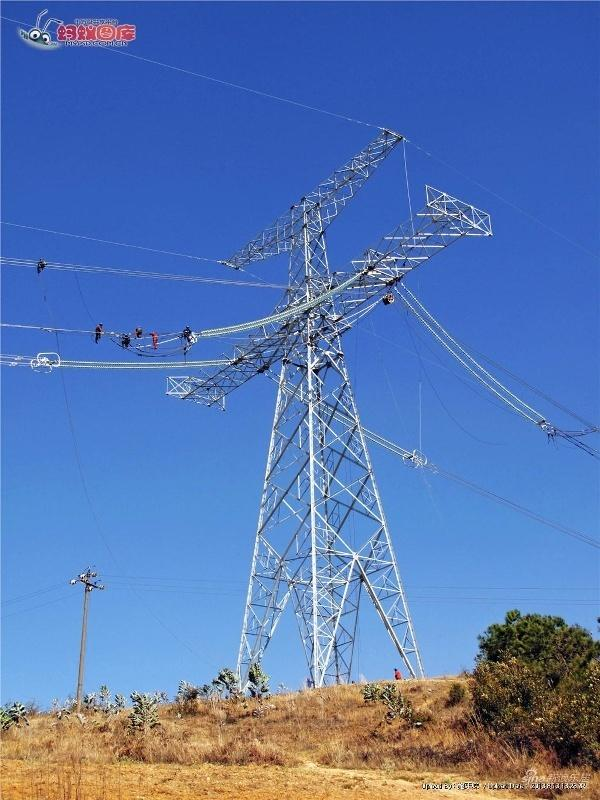power_tower: (169, 116, 517, 707)
